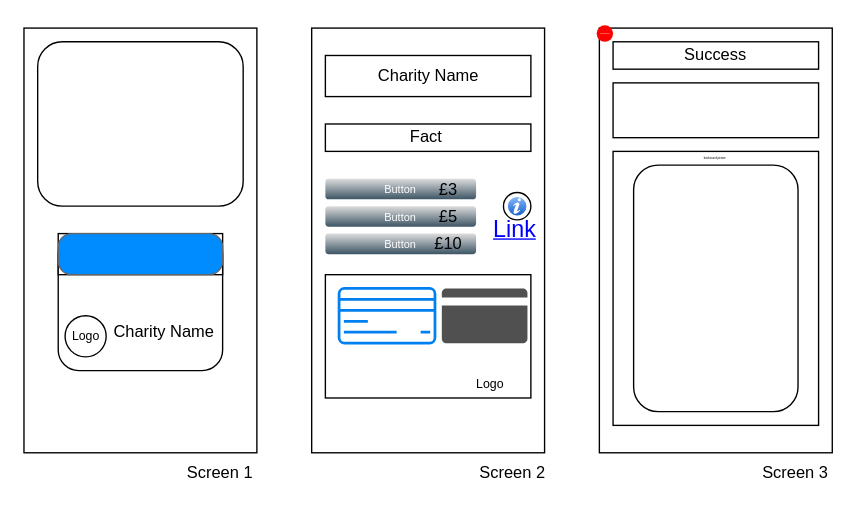
This 863x516 diagram has some shape labels left out. Here are the shapes that lost their labels. From the top down, the centre of each, then its label:
pixel 139 123: Photo
pixel 715 110: Welcome to the (charity name) community
pixel 140 253: Button Text
pixel 715 288: You and (value) others have donated £(value) today
